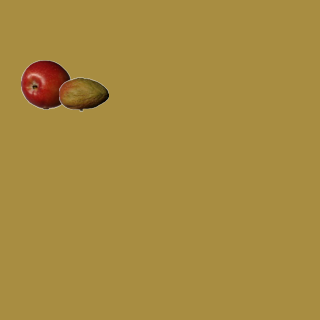Apple Braeburn: (20, 59, 70, 109)
Papaya: (58, 69, 108, 119)
